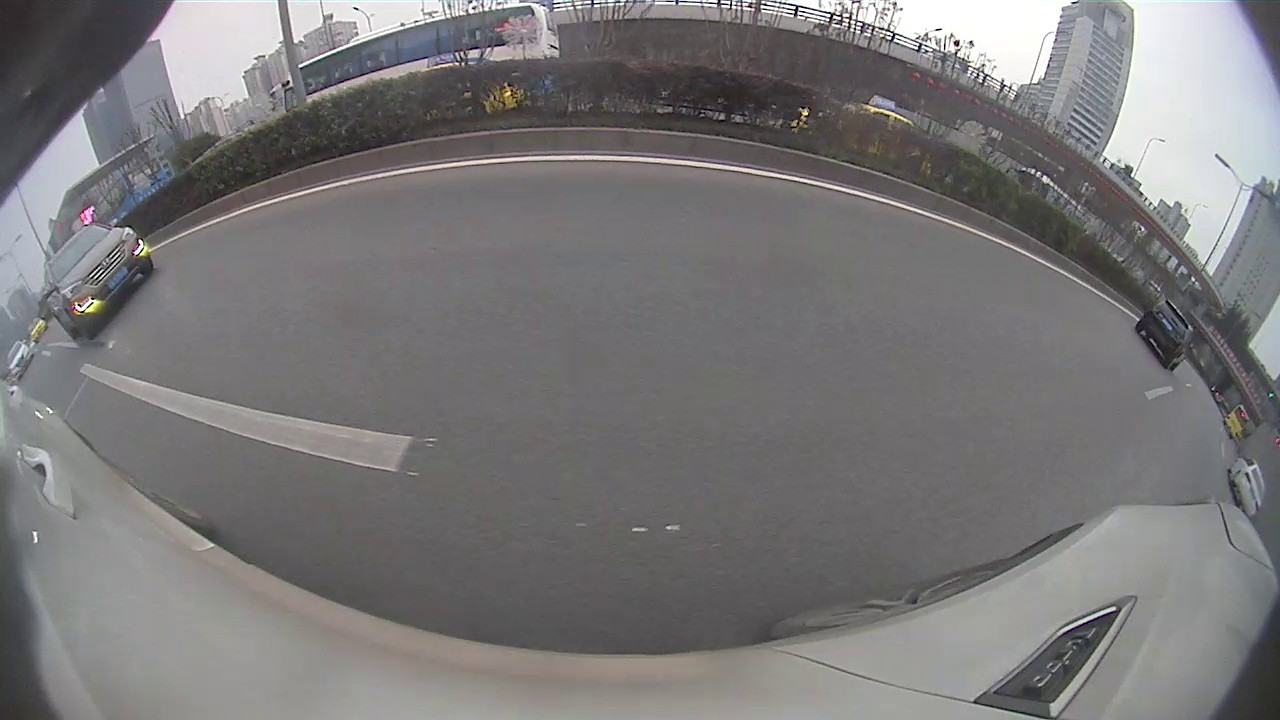bus: (282, 2, 557, 118)
car: (38, 222, 155, 341), (1136, 301, 1191, 371), (1226, 458, 1264, 517)
